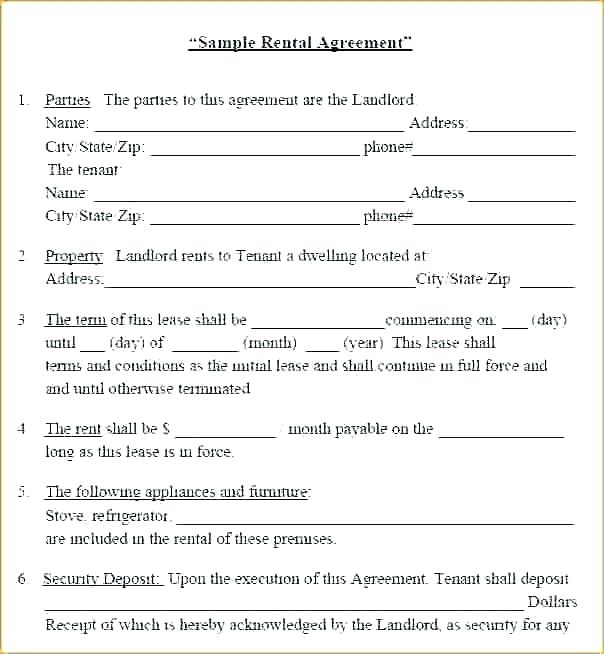textline: (39, 588, 527, 613), (174, 506, 577, 529), (93, 108, 406, 135), (91, 179, 407, 205), (104, 266, 417, 291), (147, 136, 361, 159), (148, 206, 363, 228), (415, 204, 579, 231), (433, 411, 572, 442), (414, 133, 577, 158), (249, 304, 387, 332), (465, 179, 579, 206), (463, 109, 579, 135), (172, 415, 281, 442), (169, 330, 240, 356), (516, 267, 579, 292), (299, 333, 346, 356), (76, 333, 109, 354), (500, 310, 527, 333)
